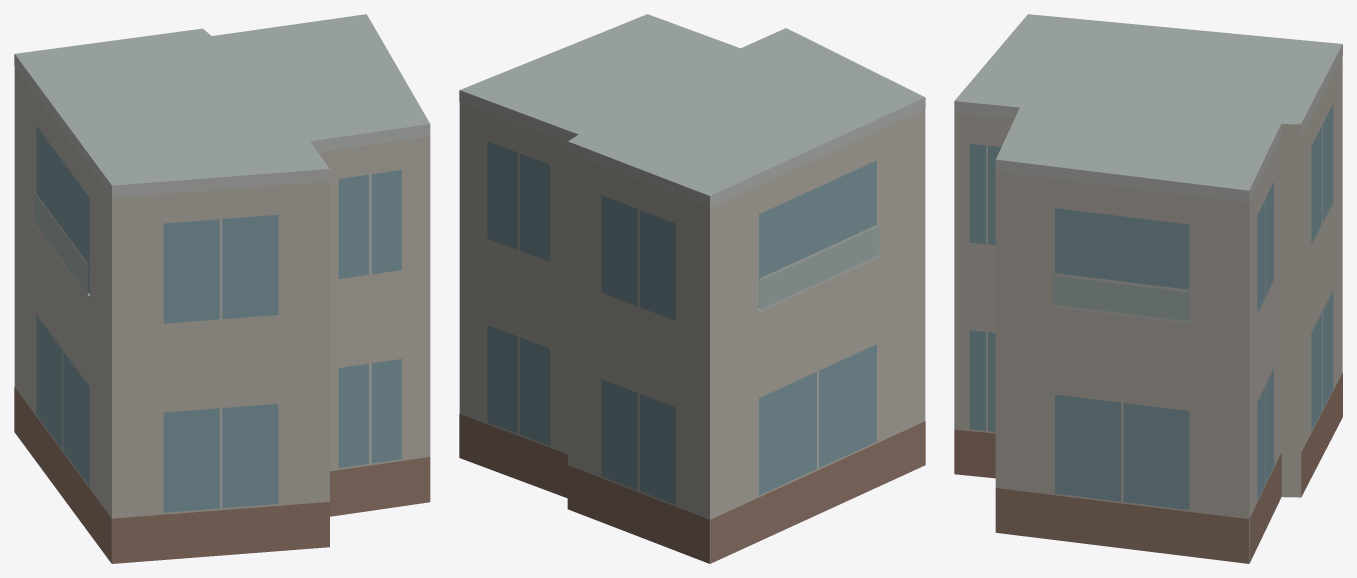
The model's file is survey-upis-32938162.glb.
The picture shows the model from 3 angles, left to right: view 1: azimuth 30°, elevation 25°; view 2: azimuth 150°, elevation 25°; view 3: azimuth 270°, elevation 25°; orthographic projection. The views are drawn at different scales.
Parts seen in each view (by area): view 1: survey-upis-32938162.tmp; view 2: survey-upis-32938162.tmp; view 3: survey-upis-32938162.tmp.
Boxes of the visible parts, left/top/right/bottom form: survey-upis-32938162.tmp: left=14, top=14, right=430, bottom=563; survey-upis-32938162.tmp: left=459, top=14, right=925, bottom=563; survey-upis-32938162.tmp: left=954, top=14, right=1342, bottom=563.
Size of the model in its own units: 7.73 by 7.6 by 7.18.
